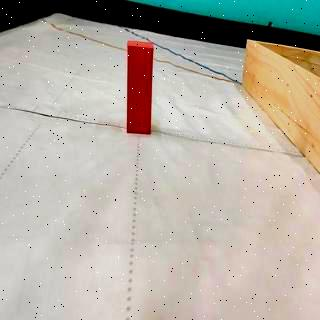redbox: (125, 40, 155, 134)
